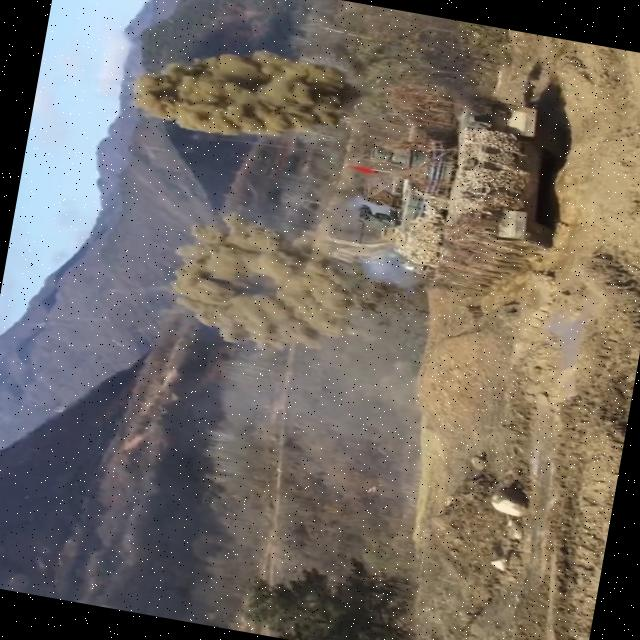korea tank: (333, 78, 577, 340)
